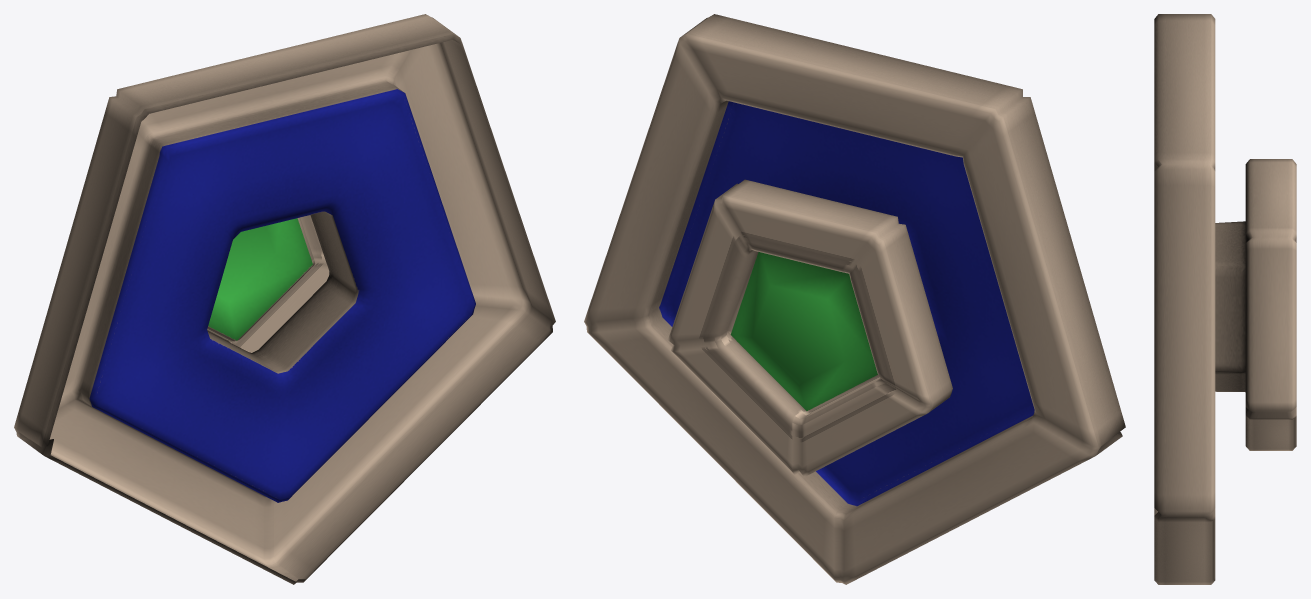
Rendered from fountain2.fbx.
The picture shows the model from 3 angles, left to right: view 1: azimuth 30°, elevation 25°; view 2: azimuth 150°, elevation 25°; view 3: azimuth 270°, elevation 25°; orthographic projection. The views are drawn at different scales.
Parts seen in each view (by area): view 1: Fountain; view 2: Fountain; view 3: Fountain.
Boxes of the visible parts, box(x1,y1,x2,y2) form: Fountain: box(14, 14, 555, 584); Fountain: box(584, 14, 1125, 584); Fountain: box(1154, 14, 1296, 584).
Bounding box in the file's own units: 56658 × 53885 × 14000.
